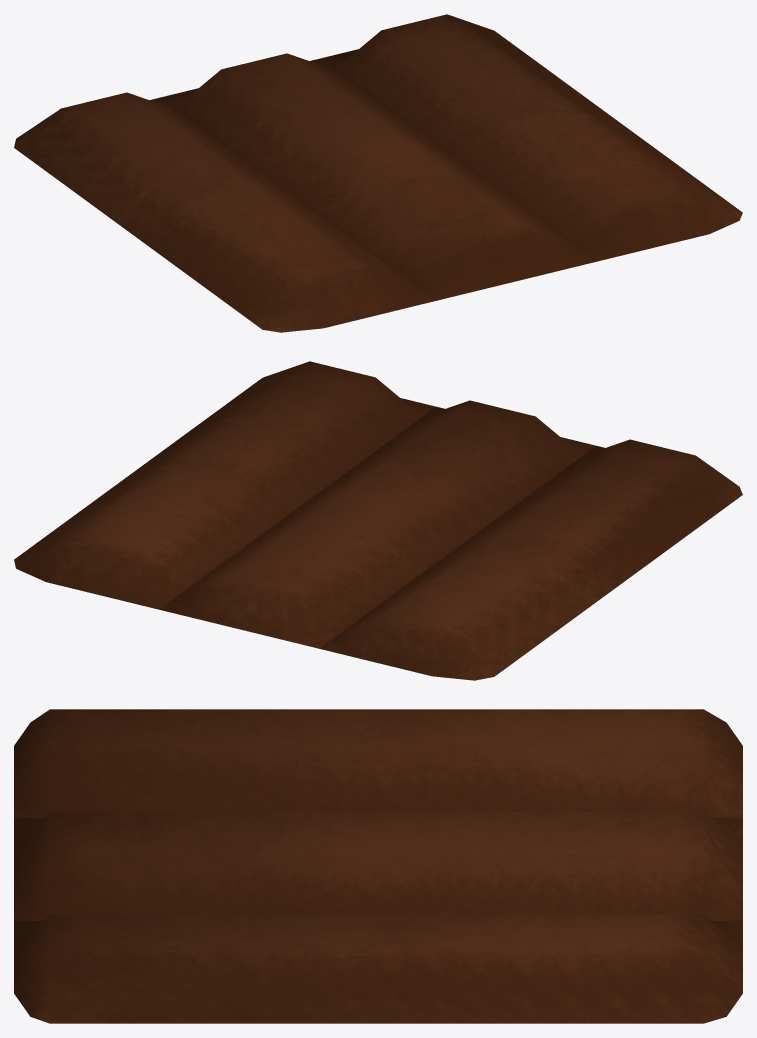
File: _Farmland.fbx
The picture shows the model from 3 angles, top to bottom: view 1: azimuth 30°, elevation 25°; view 2: azimuth 150°, elevation 25°; view 3: azimuth 270°, elevation 25°; orthographic projection. The views are drawn at different scales.
Visible parts, largest first — view 1: _Farmland; view 2: _Farmland; view 3: _Farmland.
Boxes of the visible parts, box(x1,y1,x2,y2) form: _Farmland: box(14, 14, 742, 332); _Farmland: box(14, 361, 742, 680); _Farmland: box(14, 709, 742, 1023).
Size of the model in its own units: 1.44 by 1.44 by 0.0801.
Materials: 1 (1 with a texture image).
